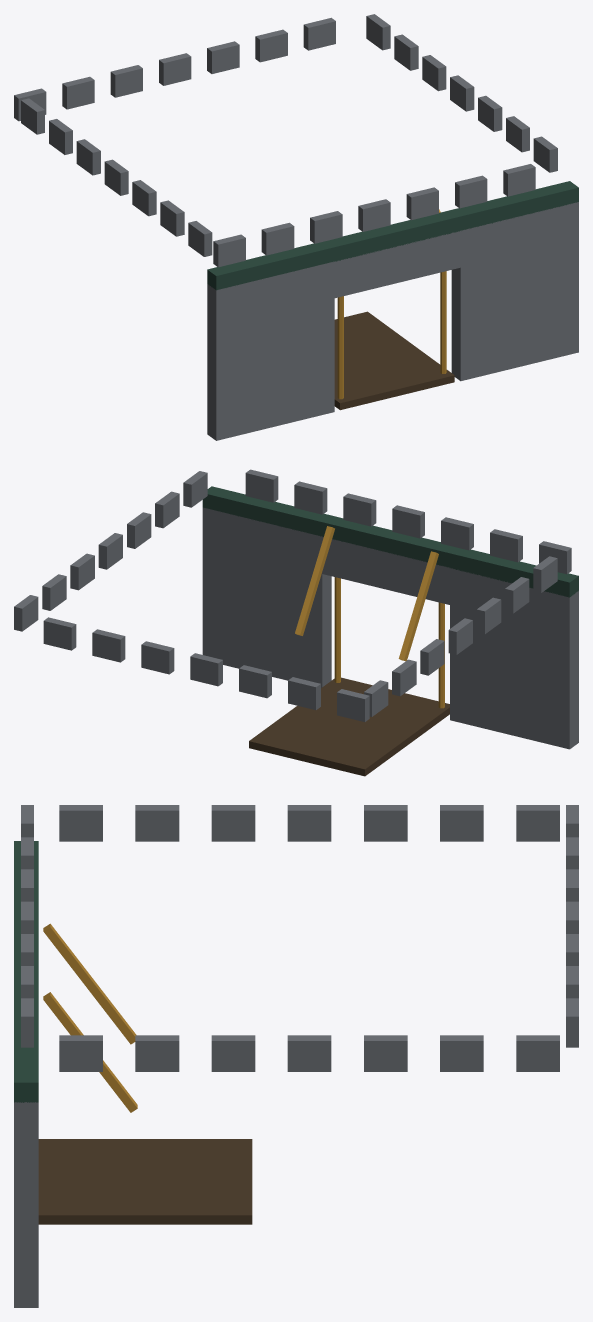
Rendered from Drawbridge.fbx.
3 renders of one model, top to bottom at view 1: azimuth 30°, elevation 25°; view 2: azimuth 150°, elevation 25°; view 3: azimuth 270°, elevation 25°, orthographic. The views are drawn at different scales.
Parts seen in each view (by area): view 1: Drawbridge; view 2: Drawbridge; view 3: Drawbridge.
Boxes of the visible parts, x1,y1,x2,y2 form: Drawbridge: (14,14,578,440); Drawbridge: (14,469,578,776); Drawbridge: (14,805,578,1307).
Bounding box in the file's own units: 1202 × 612 × 1187.
Materials: 4 (4 with a texture image).
